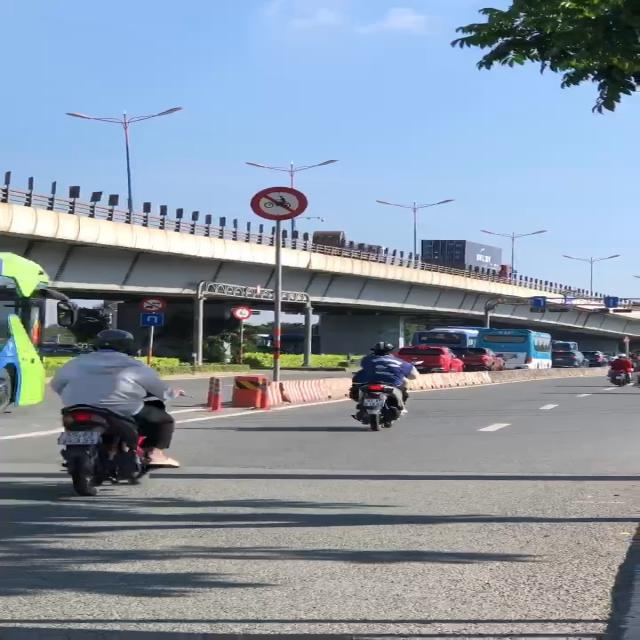Bien bao cam xe may: (248, 185, 313, 222)
